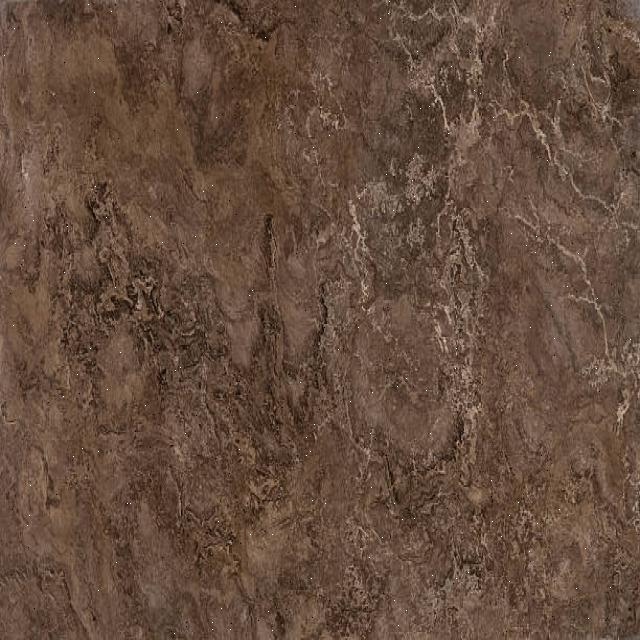Metamorphic: (1, 1, 636, 634)
